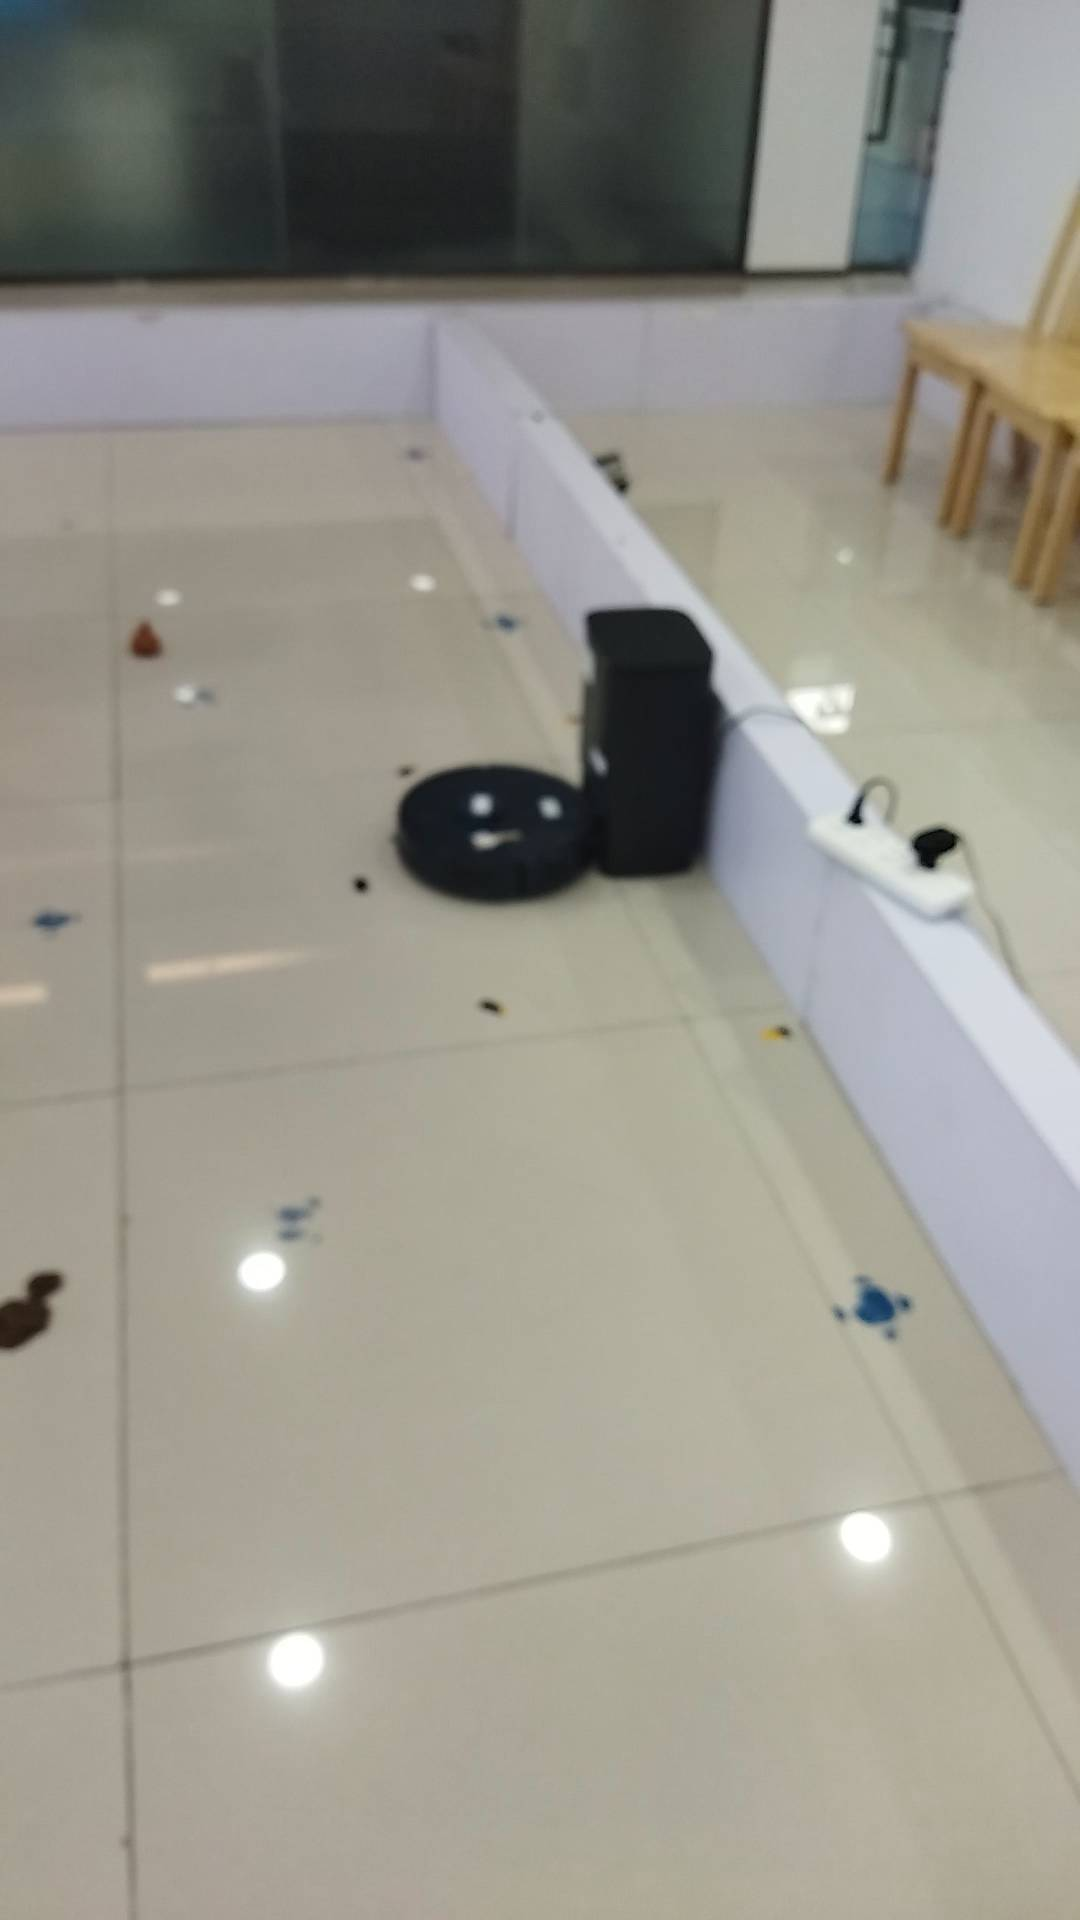dust collecting barrel: (572, 607, 716, 882)
